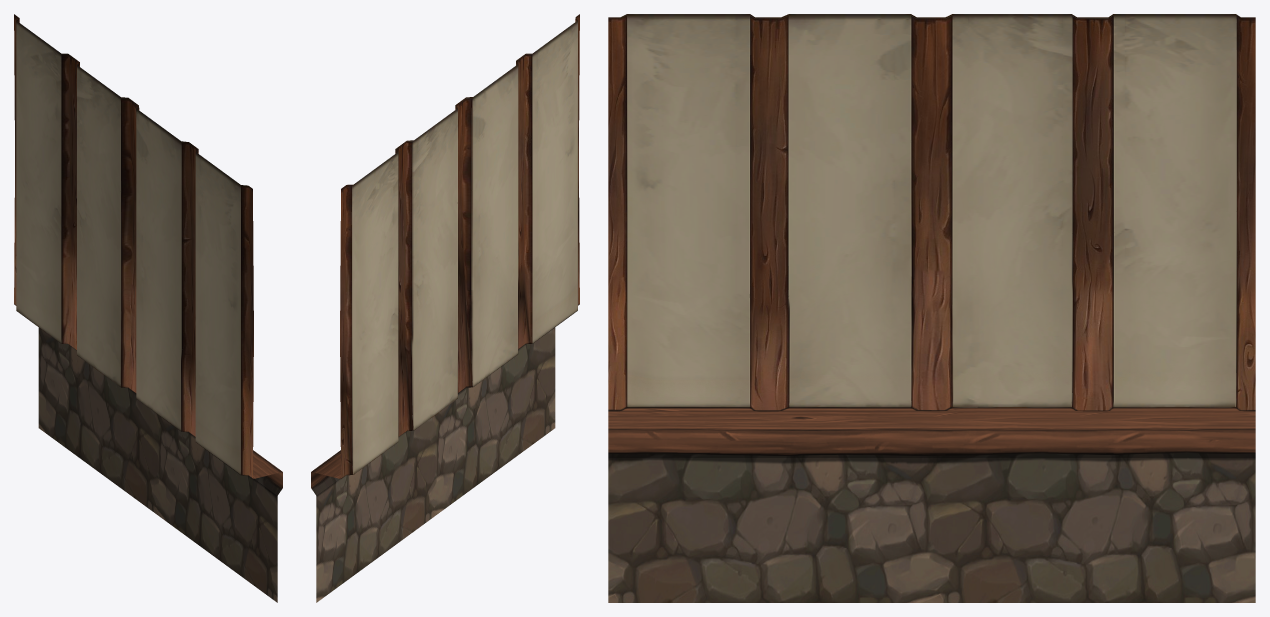
File: Wall_1.fbx
3 renders of one model, left to right at view 1: azimuth 30°, elevation 25°; view 2: azimuth 150°, elevation 25°; view 3: azimuth 270°, elevation 25°, orthographic. The views are drawn at different scales.
Visible parts, largest first — view 1: pCube1; view 2: pCube1; view 3: pCube1.
Part boxes in pixels (x1,y1,x2,y2): pCube1: (14, 14, 282, 602); pCube1: (311, 14, 579, 602); pCube1: (608, 14, 1255, 602).
Size of the model in its own units: 0.8457 by 9.7 by 10.
